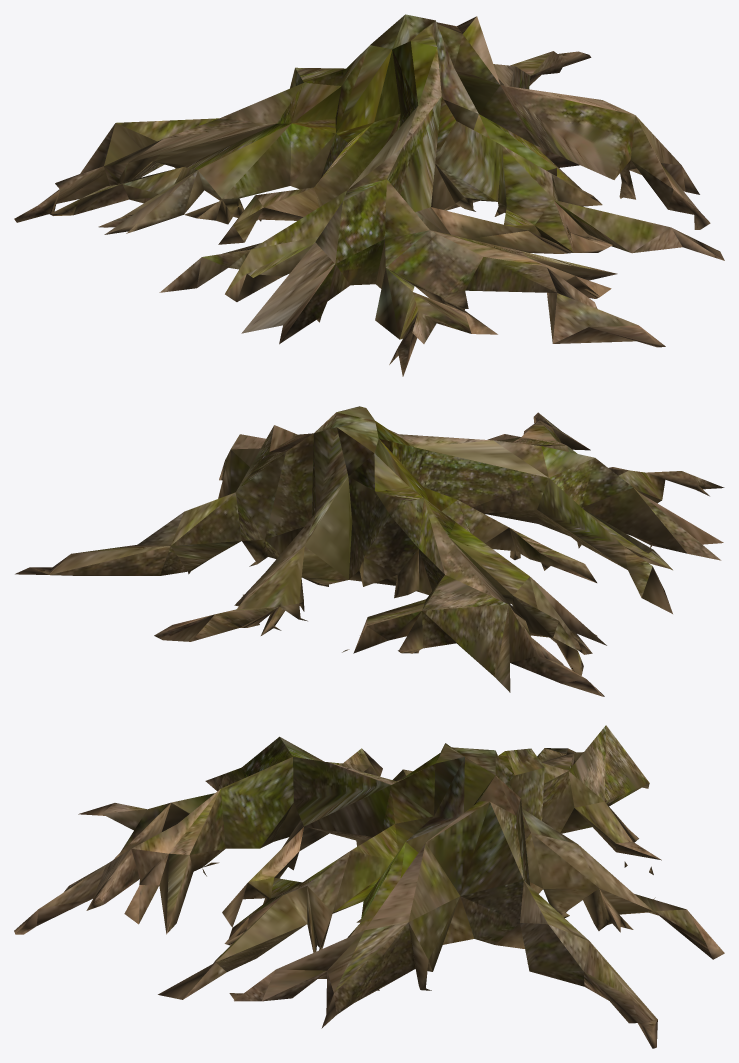
The model's file is VEG_RaizTropical_01_LOD2.fbx.
The picture shows the model from 3 angles, top to bottom: view 1: azimuth 30°, elevation 25°; view 2: azimuth 150°, elevation 25°; view 3: azimuth 270°, elevation 25°; orthographic projection. The views are drawn at different scales.
Visible parts, largest first — view 1: VEG_RaizTropical_01_Mesh000; view 2: VEG_RaizTropical_01_Mesh000; view 3: VEG_RaizTropical_01_Mesh000.
Boxes of the visible parts, x1,y1,x2,y2 form: VEG_RaizTropical_01_Mesh000: (14, 14, 724, 376); VEG_RaizTropical_01_Mesh000: (15, 406, 724, 696); VEG_RaizTropical_01_Mesh000: (14, 725, 724, 1048).
Bounding box in the file's own units: 3 × 0.8311 × 3.01.
